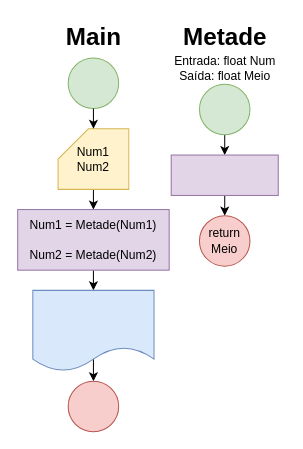
This 303x449 diagram has some shape labels left out. Here are the shapes that lost their labels. From the top down, the box of each, then its label:
(170, 154, 278, 195): Meio = Num/2
(32, 289, 154, 371): " A metade dos números é " Num1 " e " Num2
